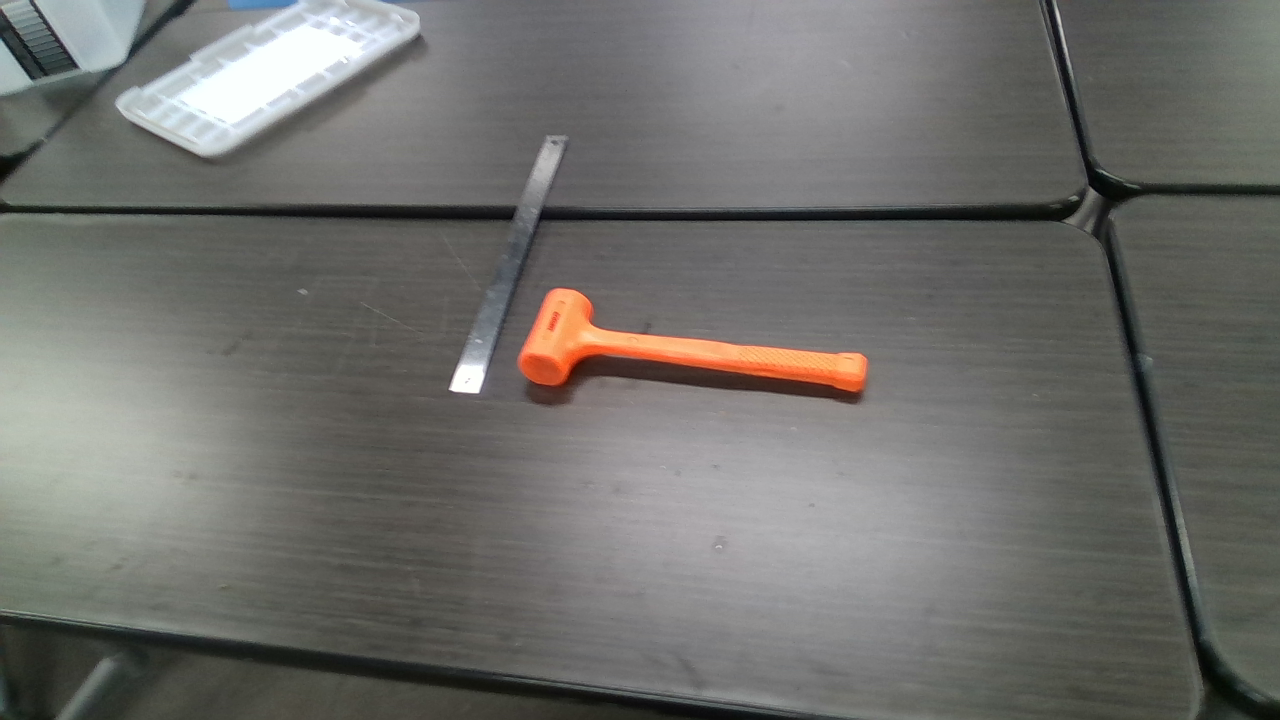Orange Hammer: (520, 290, 866, 395)
